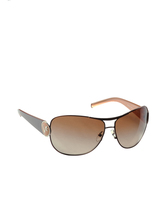glasses: (12, 96, 154, 156)
